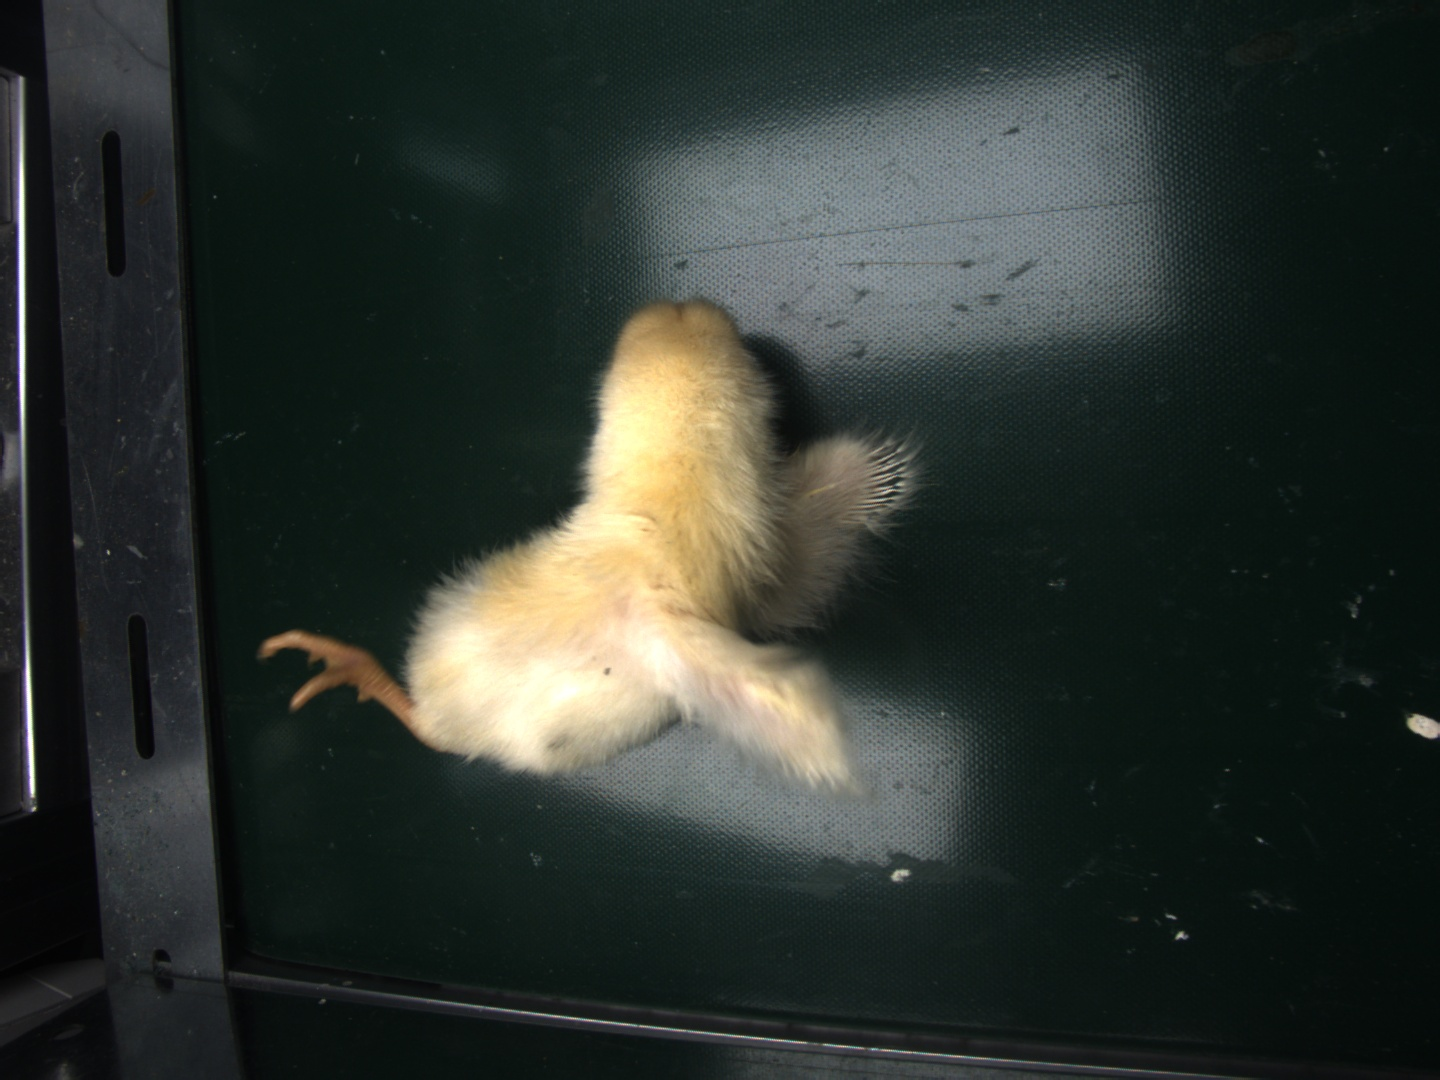male: (857, 441, 906, 523)
